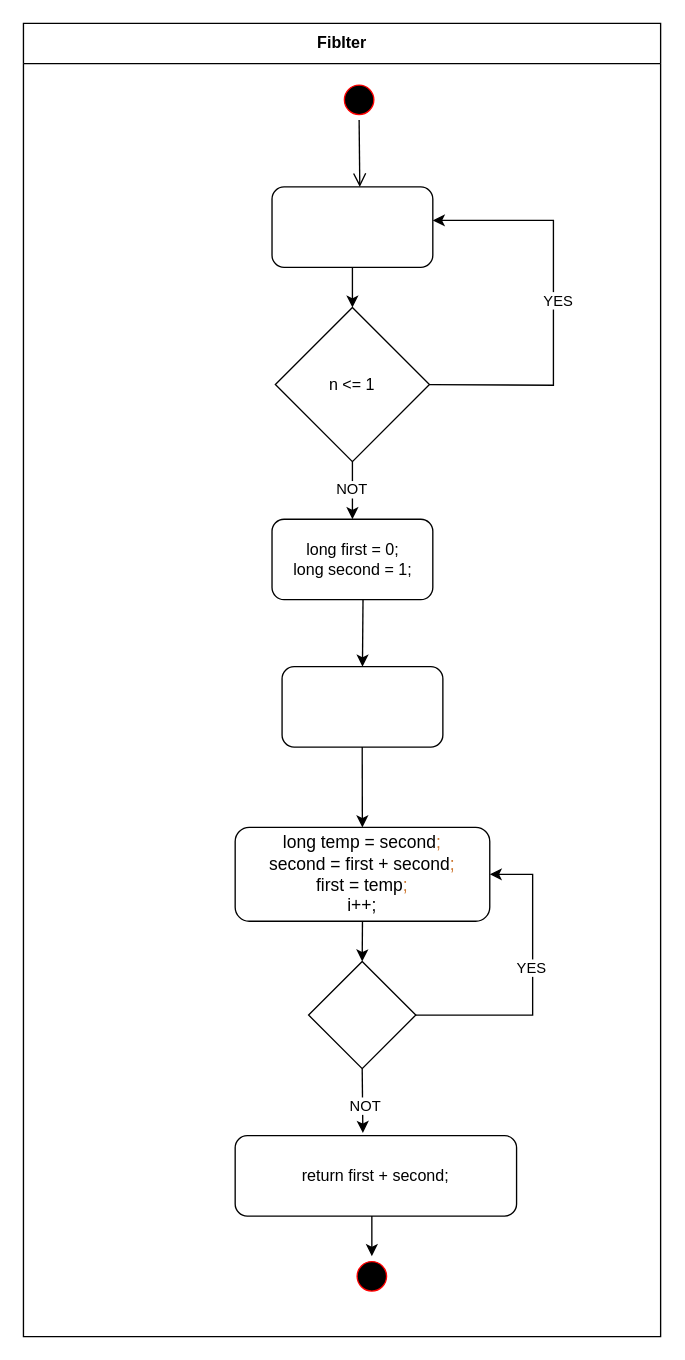
Some shapes in this 685 by 1360 pixel diagram are drawn without their labels. The shapes that lost their labels are listed below. From the top down, each one's box as (x1, y1, x2, y2) in pixels, then its label:
(271, 186, 433, 267): fibonacci(n)
(281, 665, 443, 747): int i = 0;
(307, 960, 416, 1069): i <= n-3
